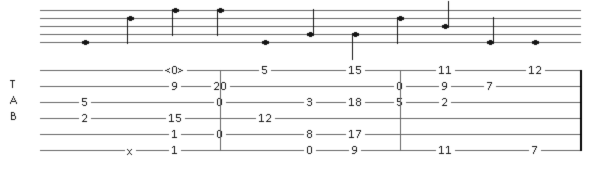0: (216, 128, 227, 140), (216, 96, 227, 108), (306, 144, 317, 156), (396, 80, 407, 92)
1: (171, 144, 182, 156), (171, 128, 182, 140)
11: (438, 144, 456, 156), (438, 64, 456, 76)
12: (258, 112, 276, 124), (528, 64, 546, 76)
15: (168, 112, 186, 124), (348, 64, 366, 76)
17: (348, 128, 366, 140)
18: (348, 96, 366, 108)
2: (81, 112, 92, 124), (441, 96, 452, 108)
20: (213, 80, 231, 92)
3: (306, 96, 317, 108)
5: (81, 96, 92, 108), (261, 64, 272, 76), (396, 96, 407, 108)
7: (486, 80, 497, 92), (531, 144, 542, 156)
8: (306, 128, 317, 140)
9: (171, 80, 182, 92), (351, 144, 362, 156), (441, 80, 452, 92)
harmonic: (165, 64, 188, 76)
x: (127, 145, 137, 155)
